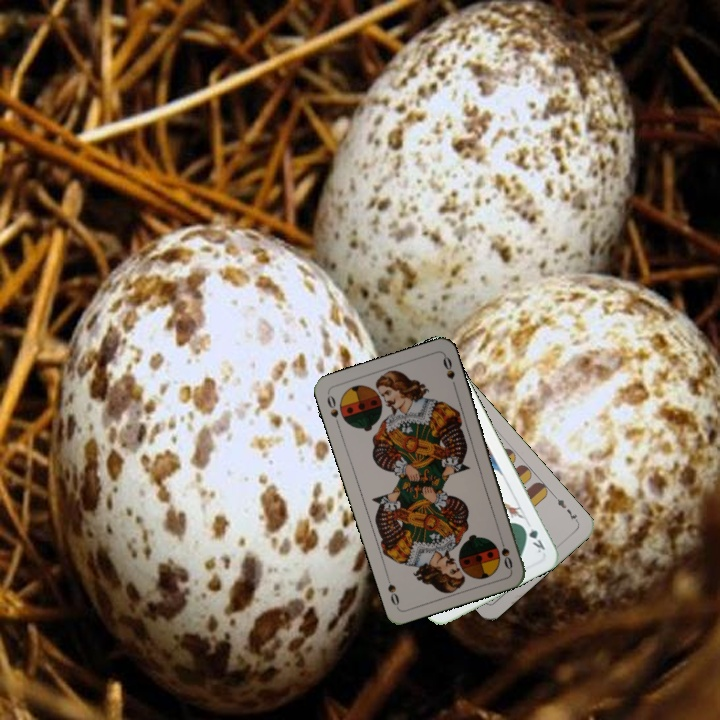E7: (551, 492, 581, 525)
GK: (518, 521, 548, 555)
SO: (496, 532, 515, 572), (323, 391, 342, 430)
